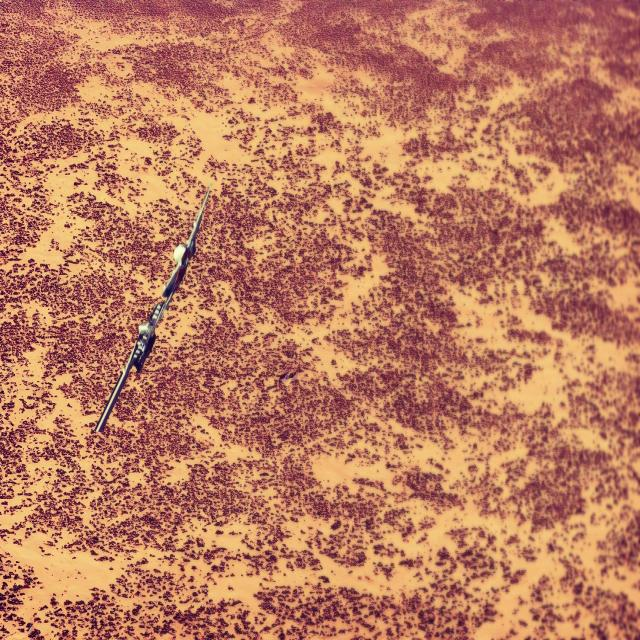airplane: (94, 181, 212, 434)
